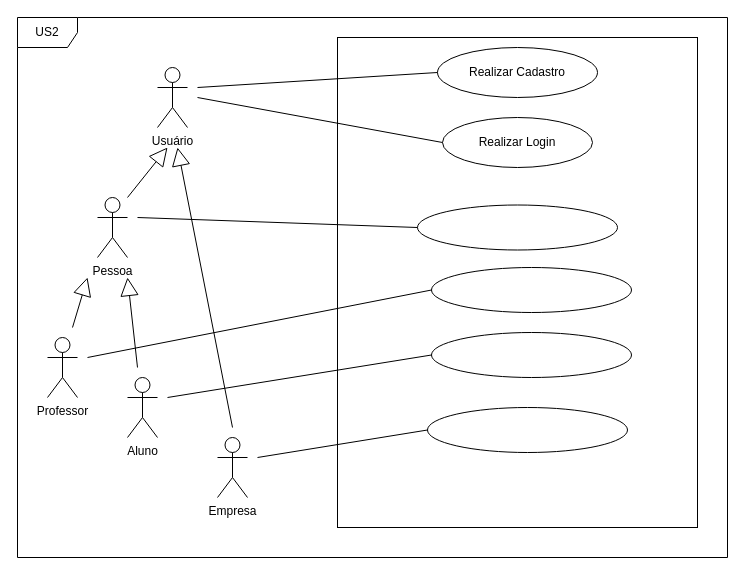
This 745x575 diagram has some shape labels left out. Here are the shapes that lost their labels. From the top down, the box of each, then its label:
(416, 204, 618, 250): Consultar extrato da conta
(430, 266, 632, 312): Distribuir moedas
(430, 332, 632, 378): Trocar moedas por vantagens cadastradas
(426, 406, 628, 452): Cadastrar vantagens
